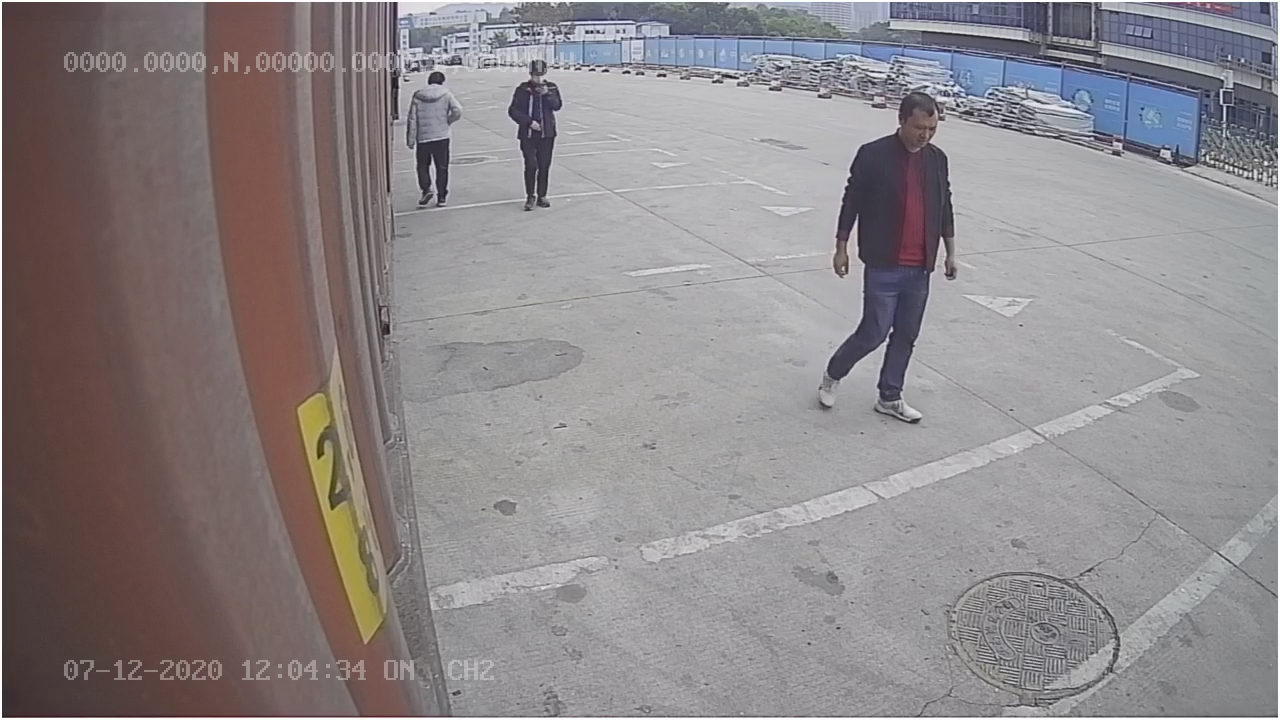person: (814, 79, 963, 428)
